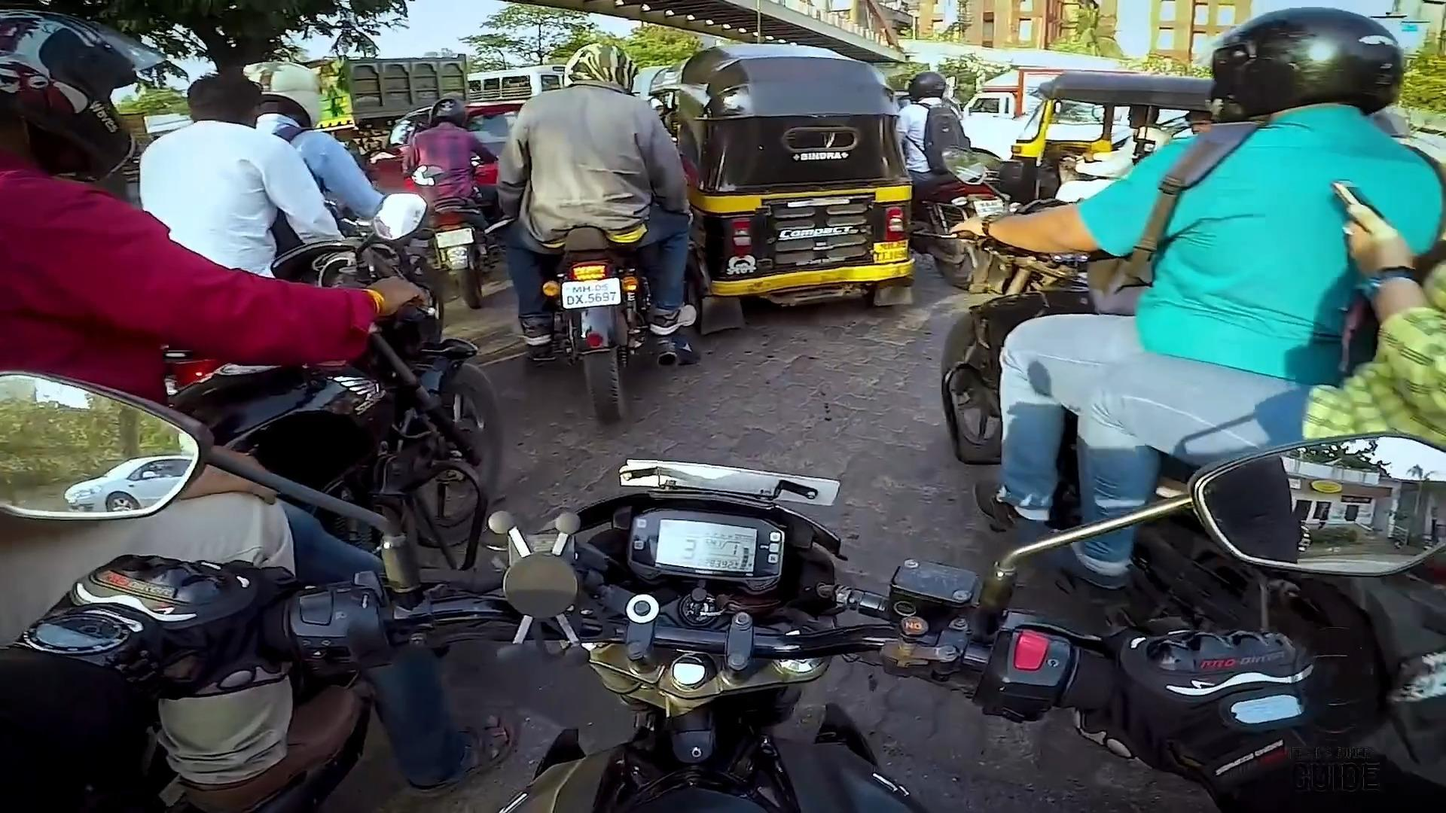Helmet: (2, 6, 155, 189), (1205, 0, 1407, 128), (236, 44, 333, 151), (554, 24, 648, 111), (422, 88, 478, 137), (895, 65, 951, 105)
bike: (508, 95, 681, 422), (890, 143, 1007, 288), (398, 145, 502, 301)
no-helmet: (181, 61, 269, 141)
number-plate: (554, 277, 625, 311)
rider: (952, 2, 1445, 511), (496, 35, 703, 353), (133, 67, 348, 317), (233, 51, 413, 245), (402, 89, 505, 224), (890, 70, 972, 184)
